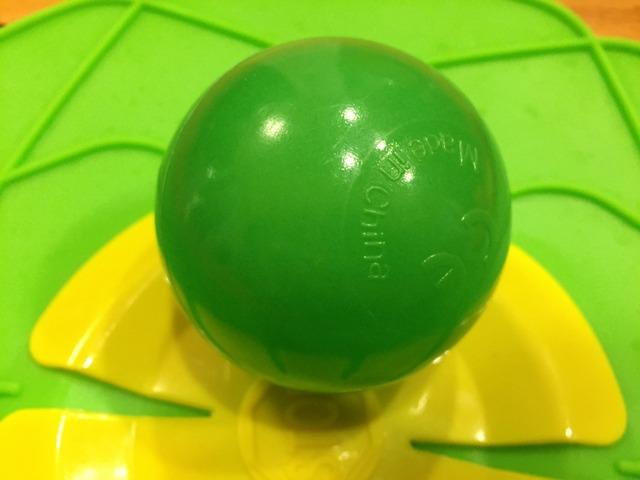Ball: (156, 38, 514, 387)
